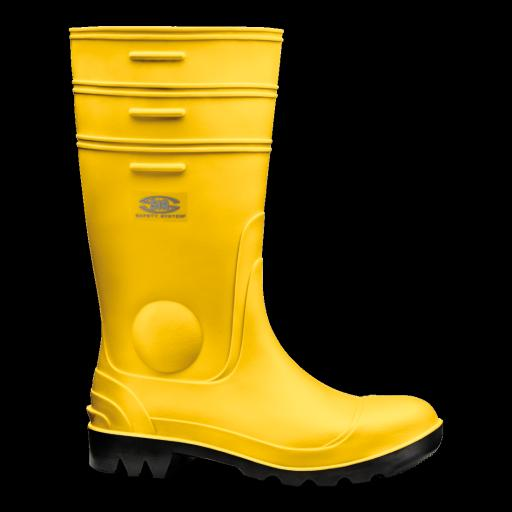safety_boots: (70, 18, 456, 500)
